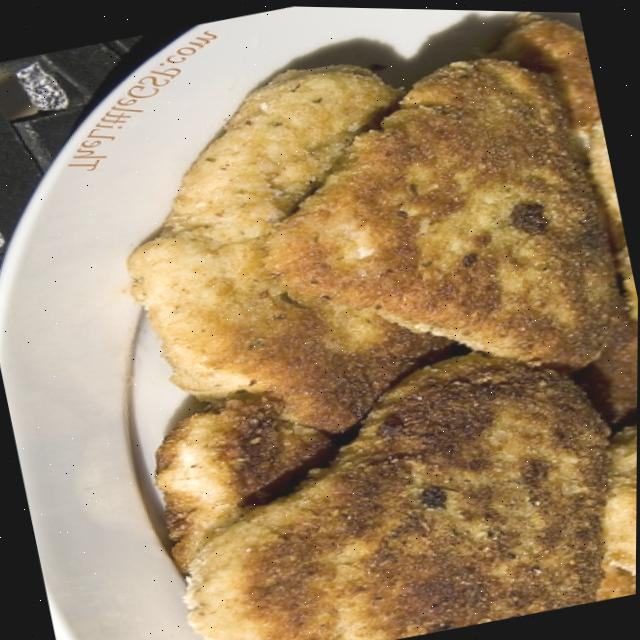鸡肉料理 含炸鸡: (29, 1, 640, 640)
